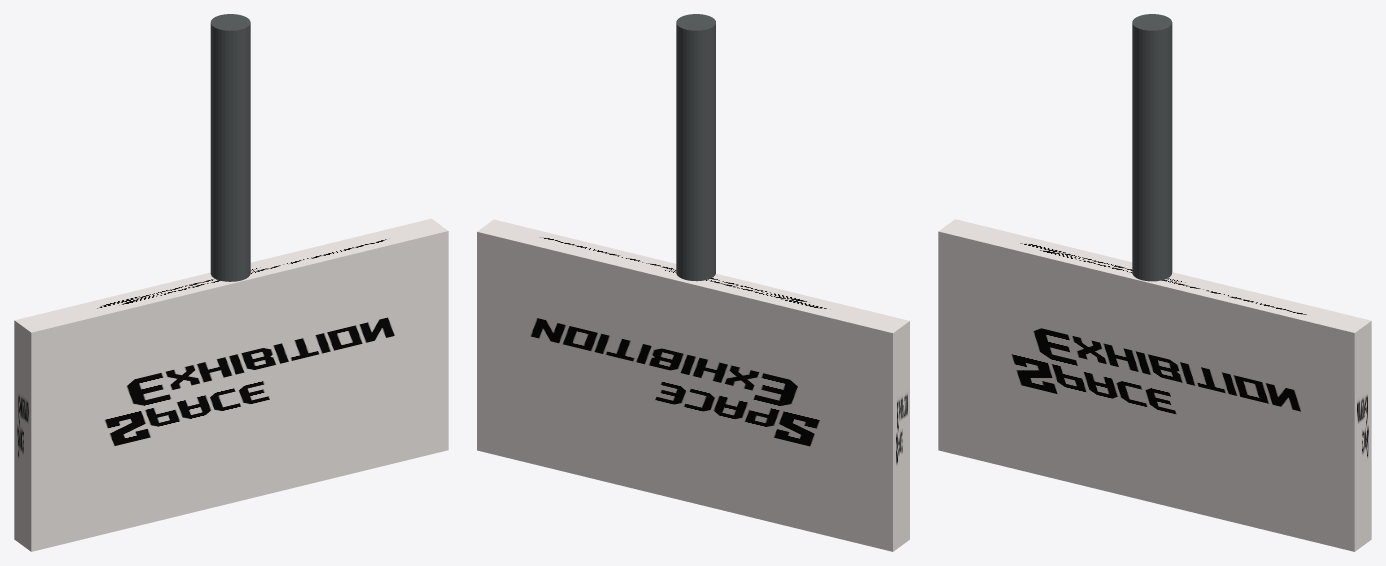
File: satelitesign.glb
3 views of the same model, side by side, from view 1: azimuth 30°, elevation 25°; view 2: azimuth 150°, elevation 25°; view 3: azimuth 330°, elevation 25° (orthographic).
Visible parts, largest first — view 1: Cube, Cylinder; view 2: Cube, Cylinder; view 3: Cube, Cylinder.
Part boxes in pixels (<box>): Cube: <box>14,218,448,551</box>; Cylinder: <box>210,14,250,281</box>; Cube: <box>477,219,909,551</box>; Cylinder: <box>676,14,715,281</box>; Cube: <box>938,219,1371,551</box>; Cylinder: <box>1132,14,1172,281</box>.
Bounding box in the file's own units: 3.98 × 4.32 × 0.3302.
Materials: 2 (2 with a texture image).
